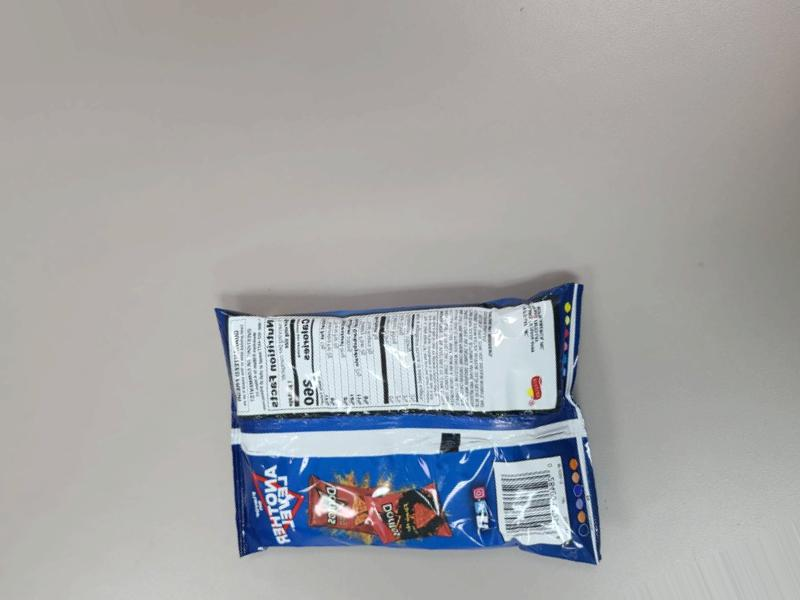doritos: (223, 269, 605, 585)
